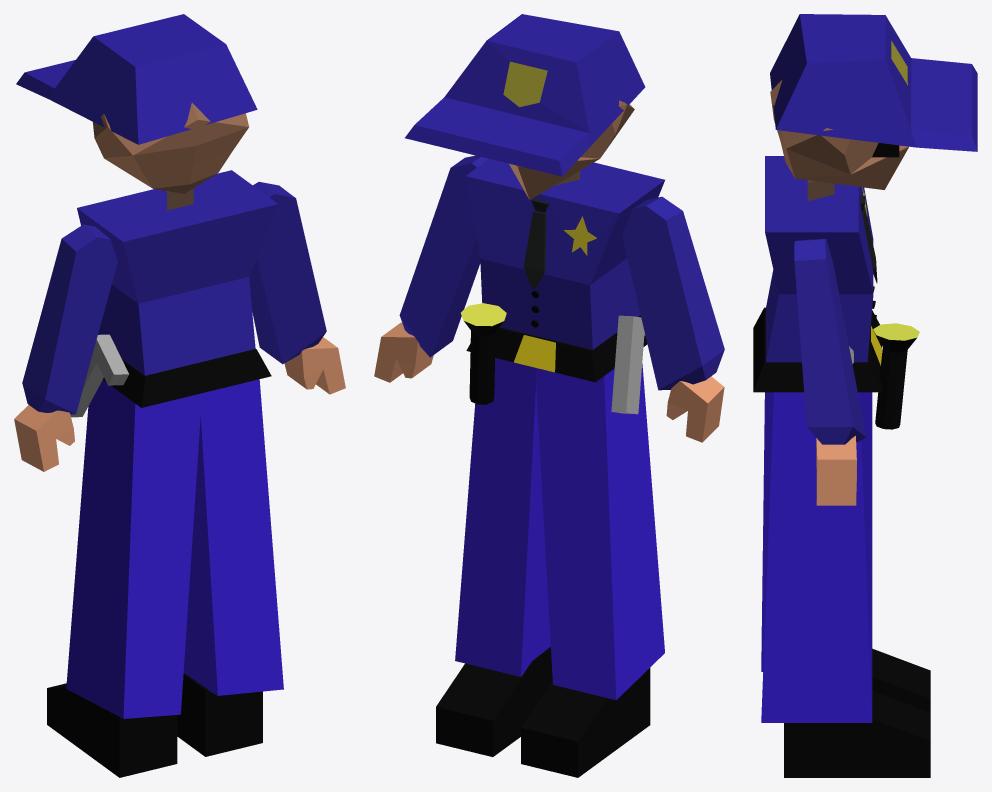
Rendered from Police.glb.
3 renders of one model, left to right at view 1: azimuth 30°, elevation 25°; view 2: azimuth 150°, elevation 25°; view 3: azimuth 270°, elevation 25°, orthographic.
Visible parts, largest first — view 1: upper body, Chest, Arms, hat, shose, Plane, Hand, belt, Cylinder; view 2: upper body, Chest, hat, Arms, shose, Hand, belt, light, Cylinder, Plane, Tie; view 3: upper body, hat, Chest, shose, Arms, Plane, belt, light, Hand, neck, Tie.
Part boxes in pixels (box(x1,y1,x2,y2)): upper body: box(66, 379, 283, 718); Chest: box(77, 170, 277, 375); Arms: box(22, 182, 326, 414); hat: box(16, 14, 257, 144); shose: box(47, 673, 262, 777); Plane: box(93, 103, 248, 193); Hand: box(14, 337, 345, 471); belt: box(103, 349, 271, 407); Cylinder: box(70, 334, 129, 417); upper body: box(455, 358, 664, 700); Chest: box(465, 159, 664, 349); hat: box(405, 14, 645, 176); Arms: box(399, 155, 724, 390); shose: box(436, 646, 650, 777); Hand: box(374, 322, 724, 442); belt: box(466, 315, 647, 382); light: box(461, 303, 506, 404); Cylinder: box(611, 315, 645, 414); Plane: box(509, 100, 634, 199); Tie: box(524, 199, 549, 288); upper body: box(761, 392, 872, 722); hat: box(770, 14, 977, 151); Chest: box(765, 156, 876, 362); shose: box(784, 648, 930, 777); Arms: box(794, 238, 866, 444); Plane: box(770, 79, 908, 189); belt: box(753, 307, 881, 392); light: box(873, 323, 919, 429); Hand: box(816, 436, 856, 505); neck: box(807, 180, 834, 200); Tie: box(860, 195, 877, 282).
Bounding box in the file's own units: 4.69 × 9.67 × 2.79.
